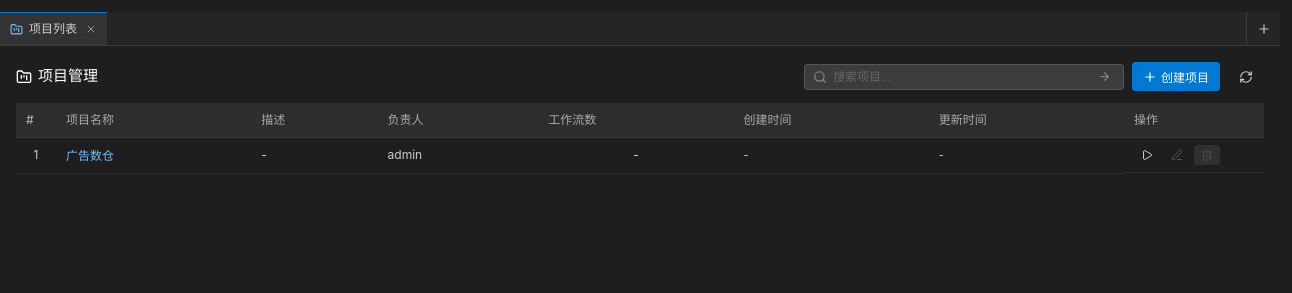
it: 「定时」入口的角色门禁 › 数据分析师：按钮同样禁用
Click the button "广告数仓" at (90, 154), box [66, 146, 114, 163]
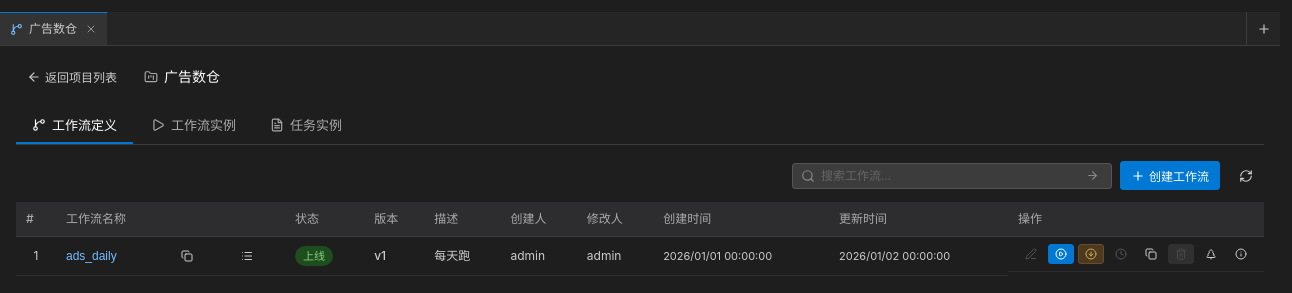
Expected: the button "ads_daily" is shown, [66, 249, 117, 263]
Expected: the button titled "定时" is disabled, [1108, 244, 1134, 264]
